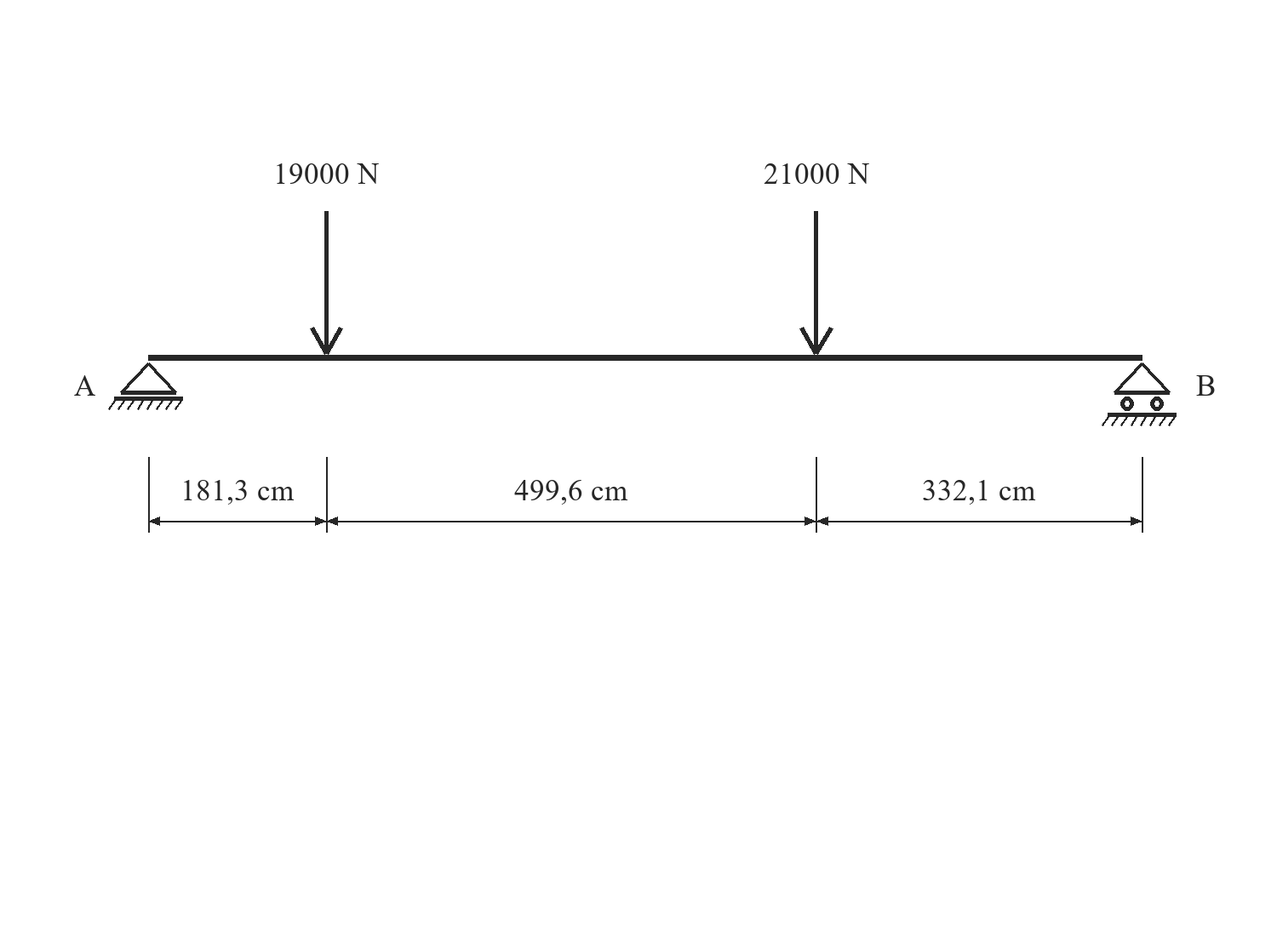pin_support: (108, 362, 183, 410)
point_load: (799, 211, 833, 355), (310, 211, 343, 355)
roller_support: (1102, 362, 1177, 426)
